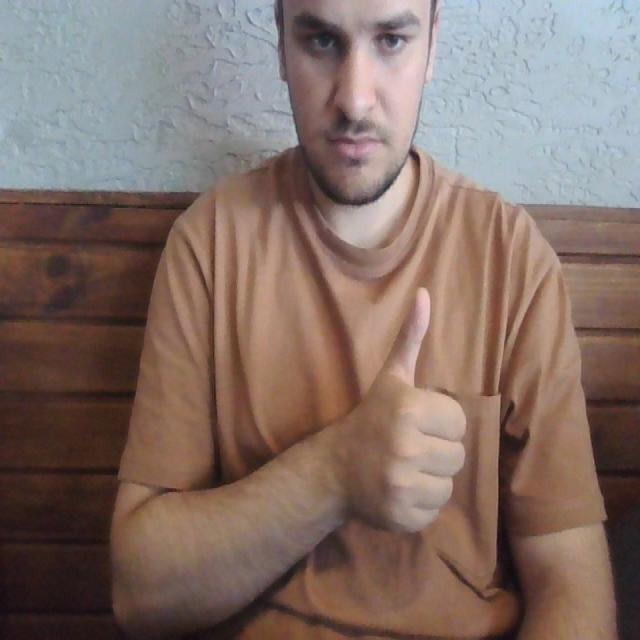Tamam: (343, 277, 467, 554)
